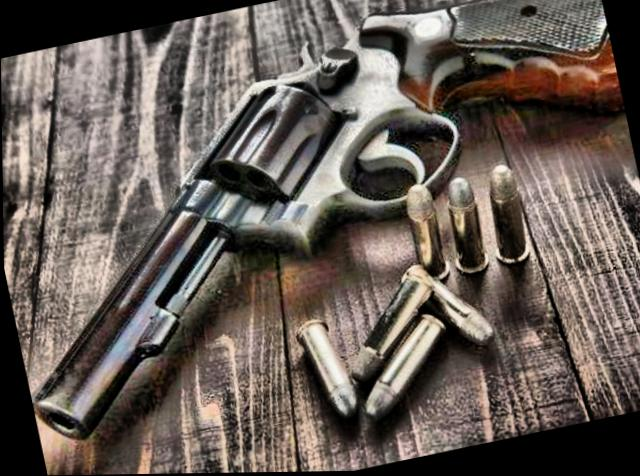pistol: (0, 0, 640, 446)
